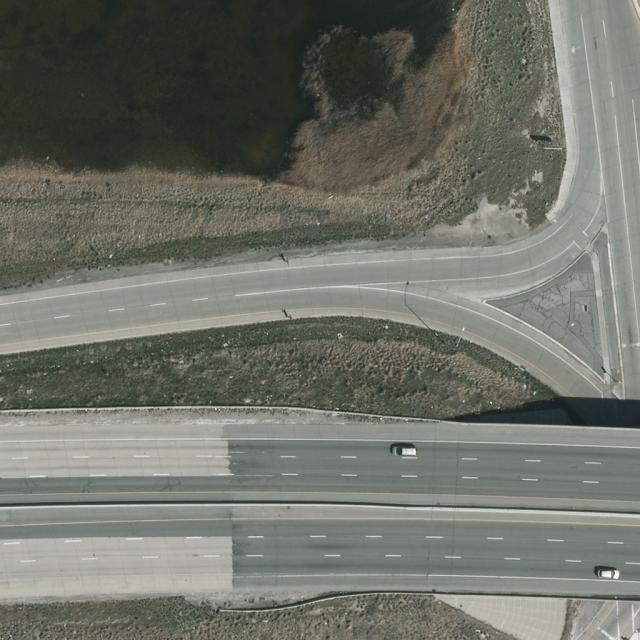vehicle: (391, 446, 417, 456), (598, 570, 620, 580)
